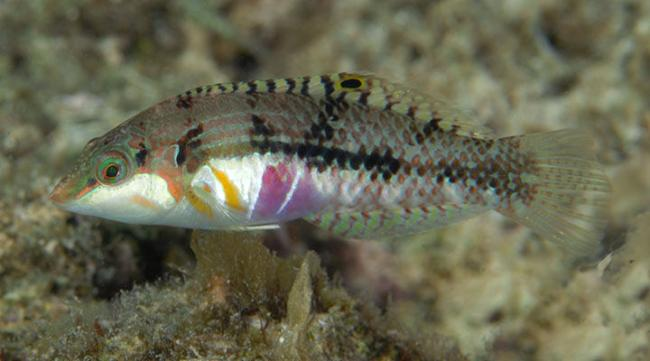fish: (49, 72, 612, 263)
